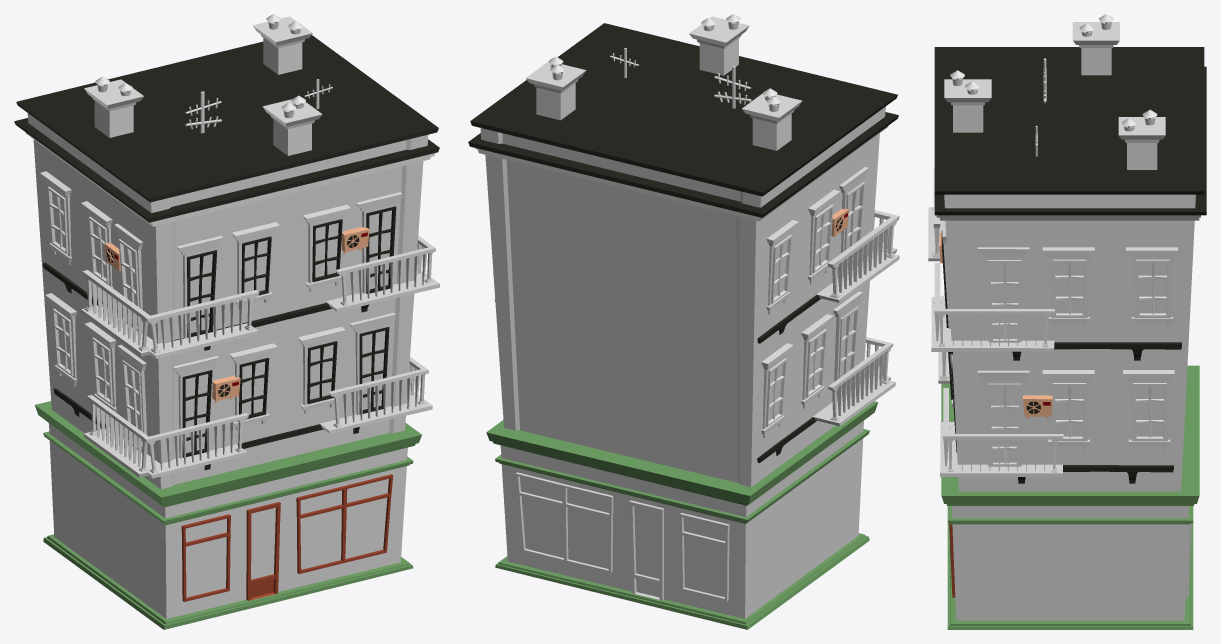
File: Nivel1Casa 1.fbx
The picture shows the model from 3 angles, left to right: view 1: azimuth 30°, elevation 25°; view 2: azimuth 150°, elevation 25°; view 3: azimuth 270°, elevation 25°; orthographic projection.
Parts seen in each view (by area): view 1: bâtiment, café, toit, toit.001, grande fenêtre.001, grande fenêtre.003, grande fenêtre.002, fenêtre, fenêtre.002, grande fenêtre.000, fenêtre.001, fenêtre.003 (+25 smaller); view 2: bâtiment, café, toit, toit.001, barrière.008, barrière.009, Cube.002, Cube, Cube.001, fenêtre.010, fenêtre.011, fenêtre.009 (+6 smaller); view 3: bâtiment, café, toit, grande fenêtre.006, grande fenêtre.004, fenêtre.006, fenêtre.004, fenêtre.005, fenêtre.007, toit.001, Cube, Cube.001 (+17 smaller).
Part boxes in pixels (<box>): bâtiment: <box>27,113,428,489</box>; café: <box>35,401,421,629</box>; toit: <box>16,35,438,202</box>; toit.001: <box>14,118,439,222</box>; grande fenêtre.001: <box>177,236,223,338</box>; grande fenêtre.003: <box>350,313,395,415</box>; grande fenêtre.002: <box>173,356,218,458</box>; fenêtre: <box>303,204,350,291</box>; fenêtre.002: <box>297,326,345,413</box>; grande fenêtre.000: <box>356,192,402,293</box>; fenêtre.001: <box>232,222,279,307</box>; fenêtre.003: <box>229,343,277,430</box>; bâtiment: <box>480,106,885,487</box>; café: <box>486,401,878,629</box>; toit: <box>470,23,897,196</box>; toit.001: <box>468,112,898,217</box>; barrière.008: <box>827,217,897,298</box>; barrière.009: <box>828,344,892,420</box>; Cube.002: <box>525,61,586,120</box>; Cube: <box>689,16,749,75</box>; Cube.001: <box>742,93,802,150</box>; fenêtre.010: <box>801,314,833,408</box>; fenêtre.011: <box>761,343,793,437</box>; fenêtre.009: <box>766,220,798,314</box>; bâtiment: <box>944,194,1195,491</box>; café: <box>941,365,1199,629</box>; toit: <box>934,47,1204,194</box>; grande fenêtre.006: <box>977,370,1029,466</box>; grande fenêtre.004: <box>977,247,1029,342</box>; fenêtre.006: <box>1123,370,1174,450</box>; fenêtre.004: <box>1126,247,1177,326</box>; fenêtre.005: <box>1042,247,1094,326</box>; fenêtre.007: <box>1042,370,1094,450</box>; toit.001: <box>934,66,1206,215</box>; Cube: <box>944,79,991,132</box>; Cube.001: <box>1072,22,1119,75</box>.
Size of the model in its own units: 315 by 501 by 252.
